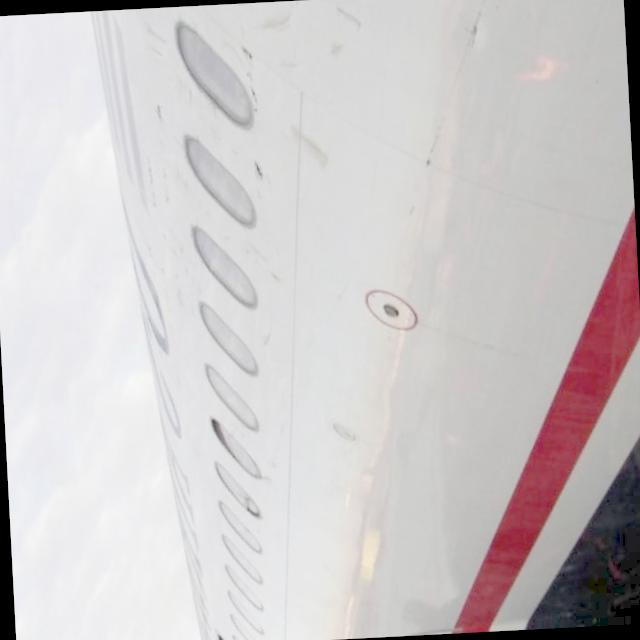crack: (331, 2, 366, 34)
